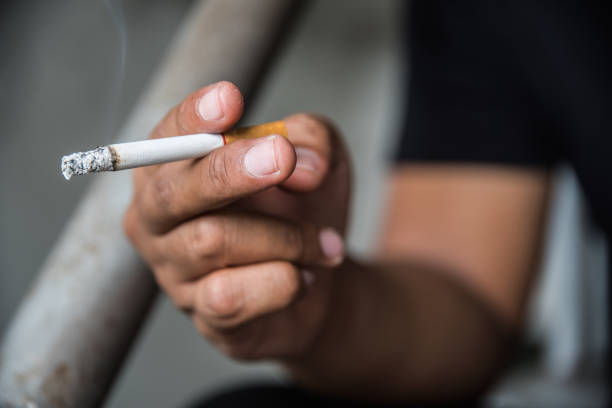cigarette: (58, 120, 290, 184)
